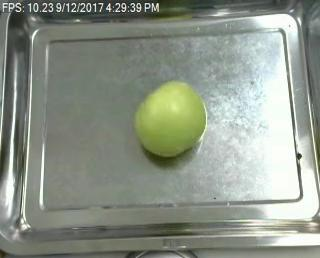fruit: (129, 76, 211, 162)
